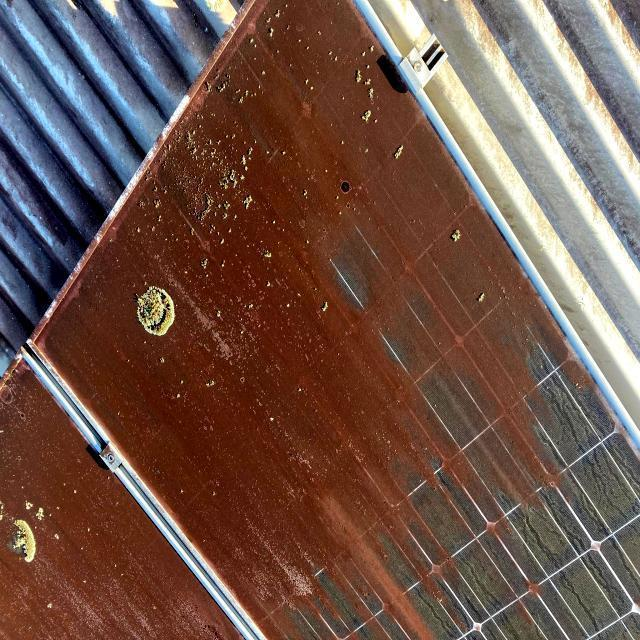soiled: (1, 4, 638, 638)
